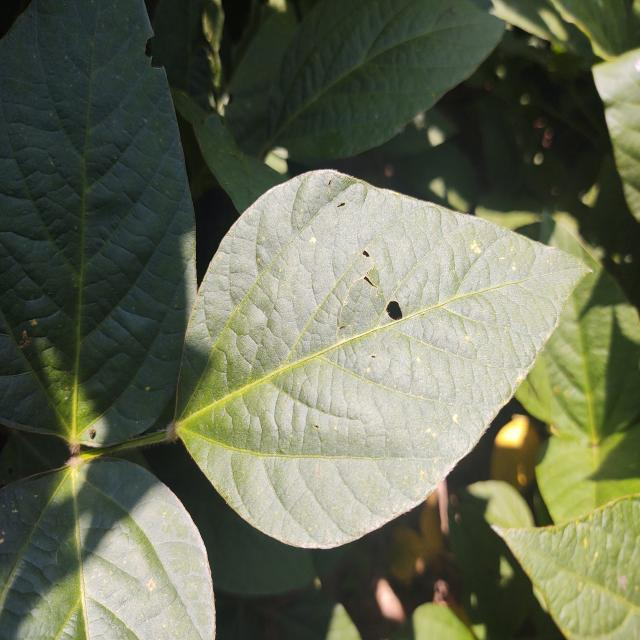Soybean: (0, 0, 596, 640)
downey_mildew: (272, 186, 407, 357), (246, 329, 412, 460), (84, 156, 181, 302), (299, 67, 451, 160), (208, 250, 299, 403), (270, 445, 404, 542), (63, 300, 178, 412), (0, 391, 180, 462), (522, 502, 639, 608), (1, 197, 84, 341), (3, 100, 88, 240), (222, 0, 302, 146), (381, 213, 476, 326), (428, 285, 537, 382), (329, 1, 455, 82), (395, 9, 505, 92), (445, 223, 541, 315), (81, 546, 172, 639), (0, 475, 75, 586), (521, 316, 594, 429), (29, 224, 114, 319), (175, 286, 227, 440), (1, 313, 83, 405), (389, 324, 479, 407), (589, 307, 640, 437), (0, 562, 86, 639), (75, 102, 145, 188), (546, 576, 640, 639), (75, 458, 156, 525), (501, 526, 572, 587), (583, 417, 640, 489), (276, 121, 365, 167), (575, 296, 603, 438), (105, 303, 167, 353), (439, 230, 486, 294), (540, 569, 583, 615)
